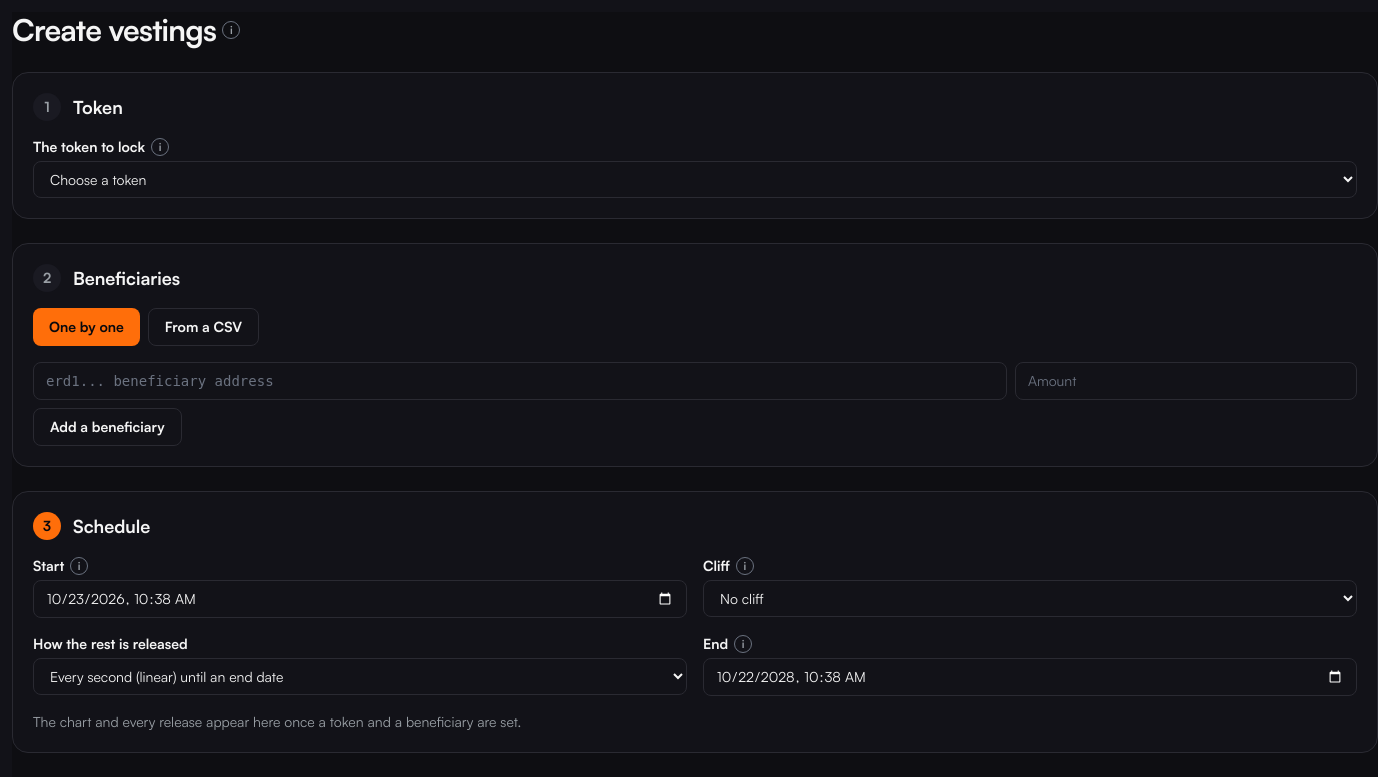
red team: a smart contract typed as beneficiary › is flagged before the review
Select "FOXSY (FOXSY-5d5f3e): 1,000,000,000,000" in the dropdown showing "Choose a token" below "The token to lock" at [695, 180], box [33,161,1357,198]
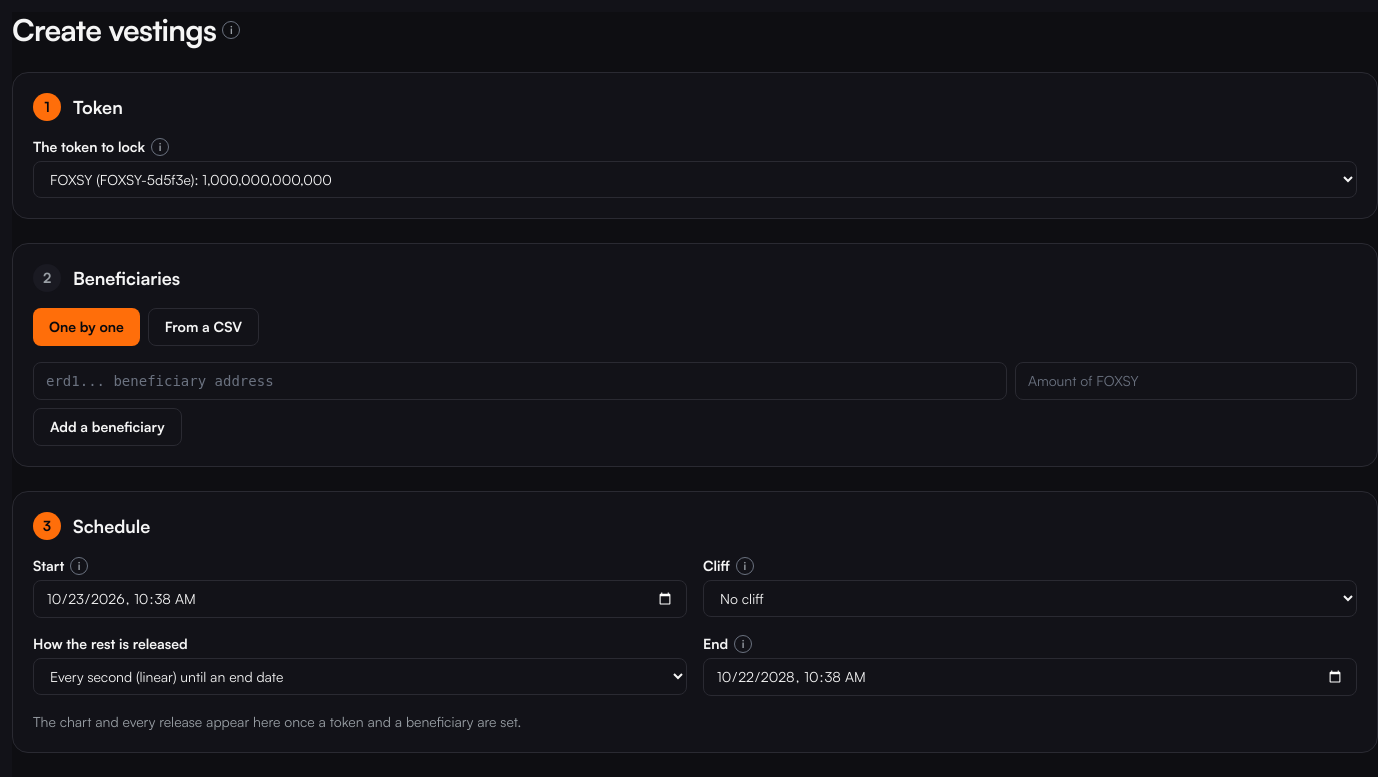
Type "erd1qqqqqqqqqqqqqpgqe7jmywfkh74cam8uqnt762c54zuqgp6r6qlsul78u3" into the field with placeholder "erd1... beneficiary address".
click(520, 381); type("erd1qqqqqqqqqqqqqpgqe7jmywfkh74cam8uqnt762c54zuqgp6r6qlsul78u3")  # box [33,362,1007,400]
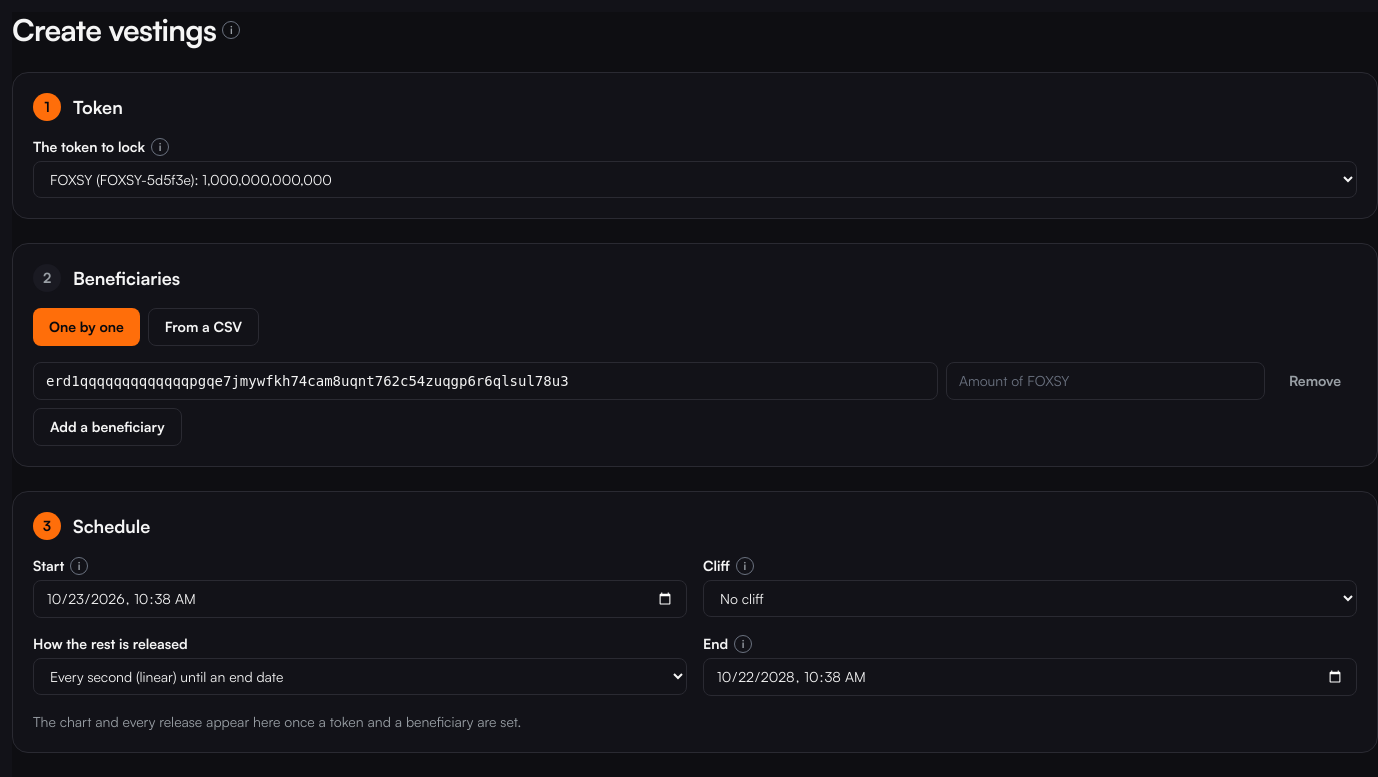
Type "1000" into the field with placeholder "Amount of FOXSY".
click(1106, 381); type("1000")  # box [946,362,1265,400]
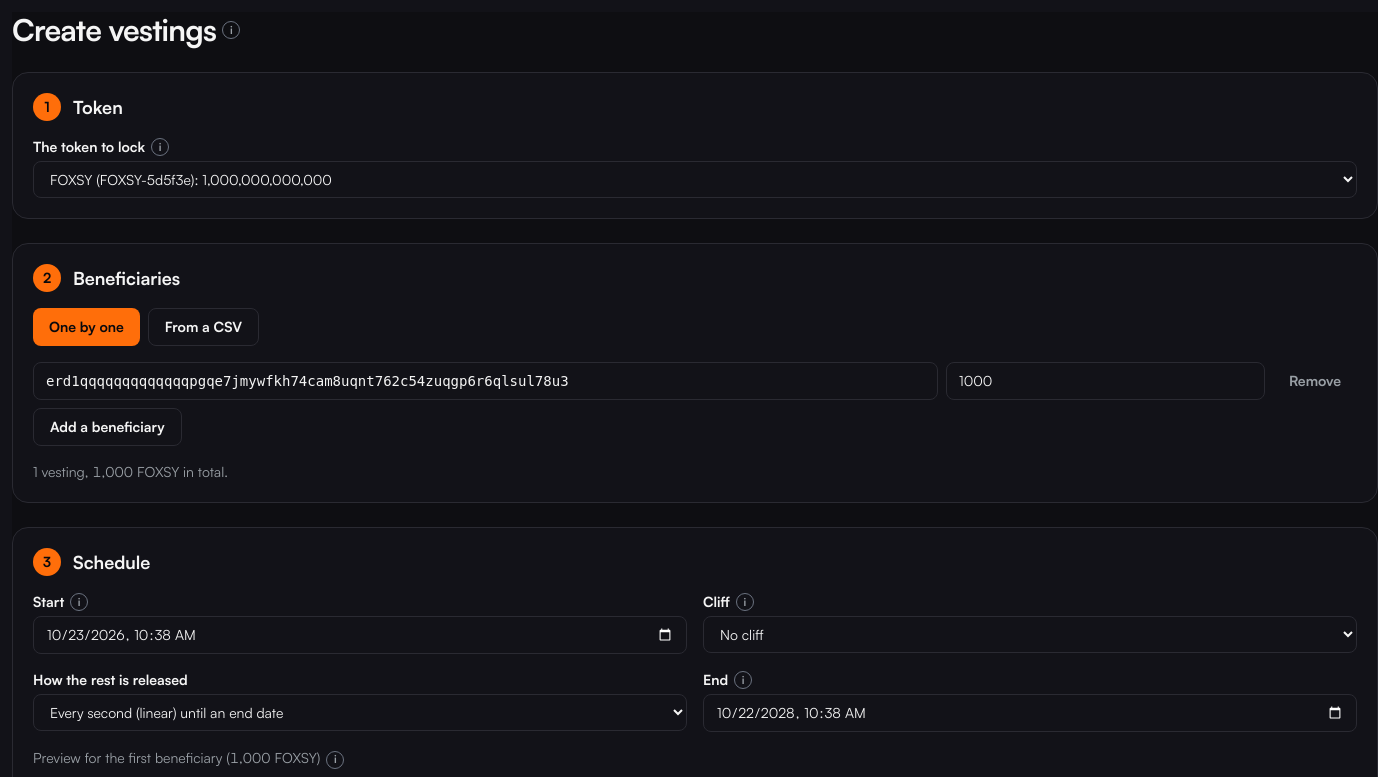
Leave the 2nd field with placeholder "Amount of FOXSY", box [946,362,1265,400]
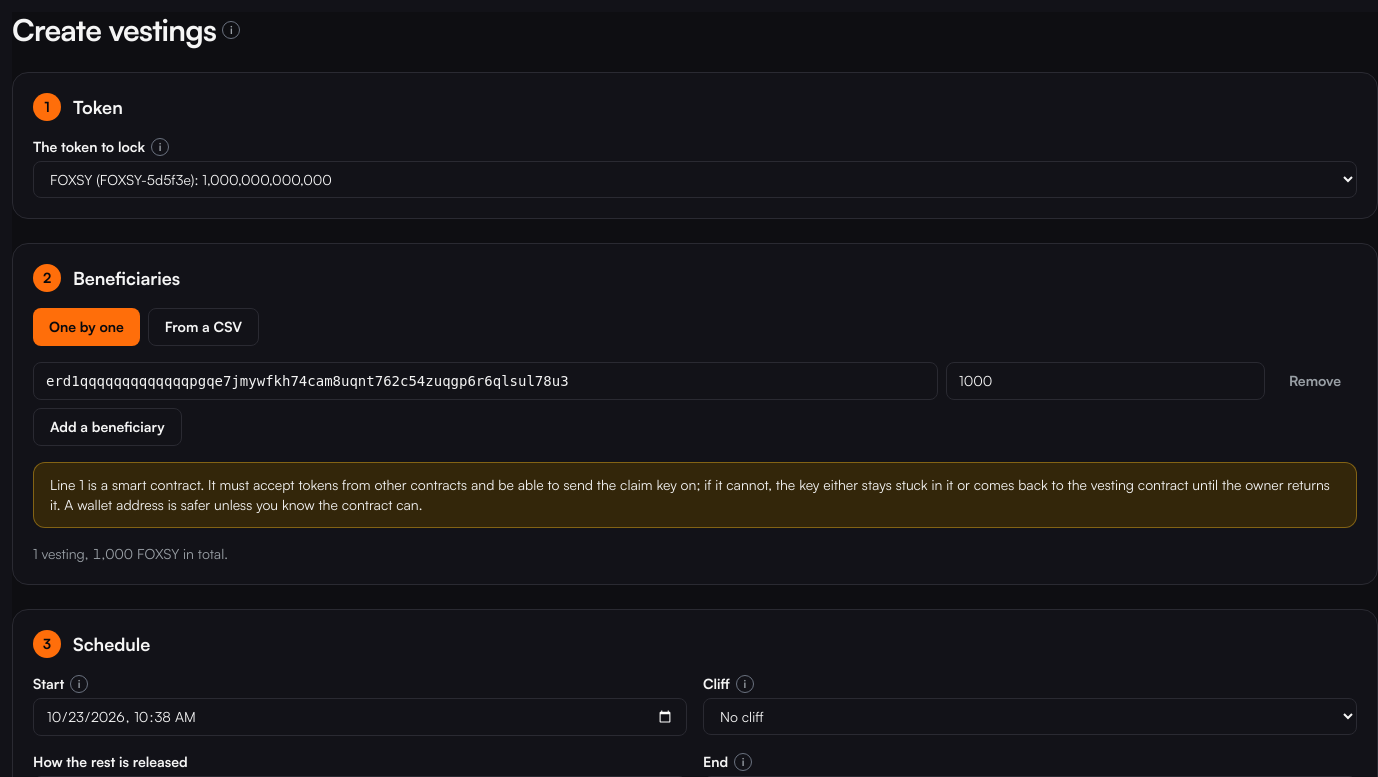
Now the text "smart contract" is shown, box [50,476,200,493]
